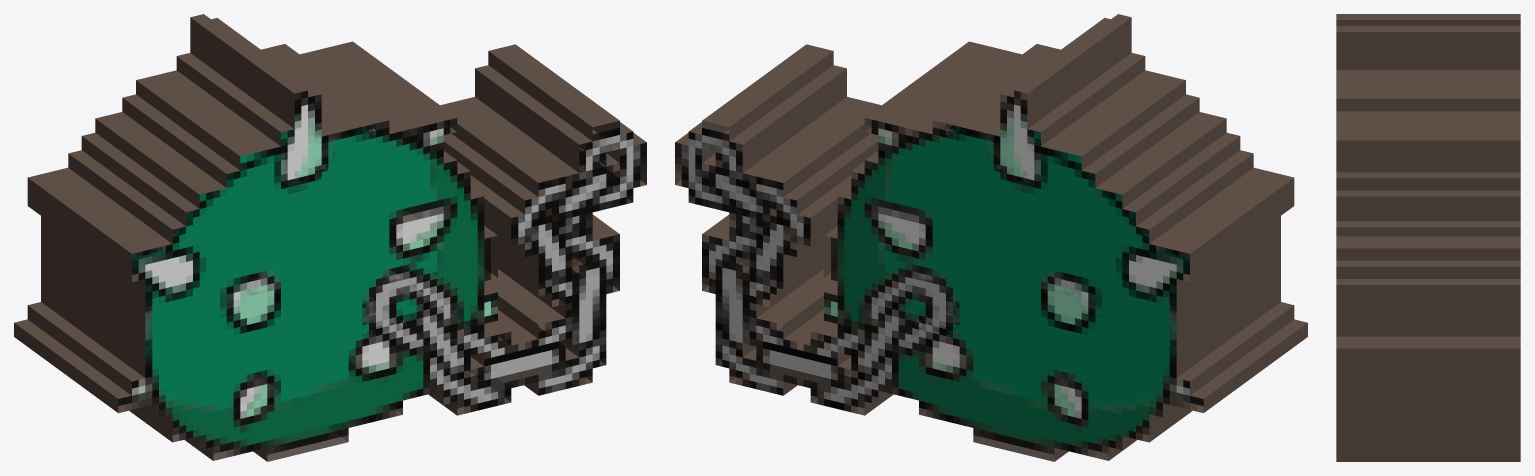
Rendered from treasure.glb.
The picture shows the model from 3 angles, left to right: view 1: azimuth 30°, elevation 25°; view 2: azimuth 150°, elevation 25°; view 3: azimuth 270°, elevation 25°; orthographic projection. The views are drawn at different scales.
Parts seen in each view (by area): view 1: treasure; view 2: treasure; view 3: treasure.
Part boxes in pixels (x1=…): treasure: x1=14, y1=14, x2=646, y2=461; treasure: x1=675, y1=14, x2=1307, y2=461; treasure: x1=1336, y1=14, x2=1520, y2=461.
Size of the model in its own units: 0.585 by 0.3825 by 0.2.
Materials: 2 (1 with a texture image).
